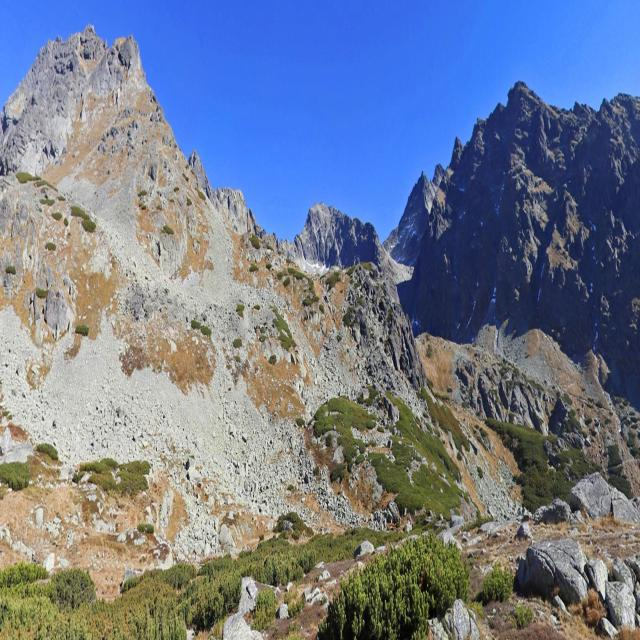Rysy: (269, 135, 380, 280)
